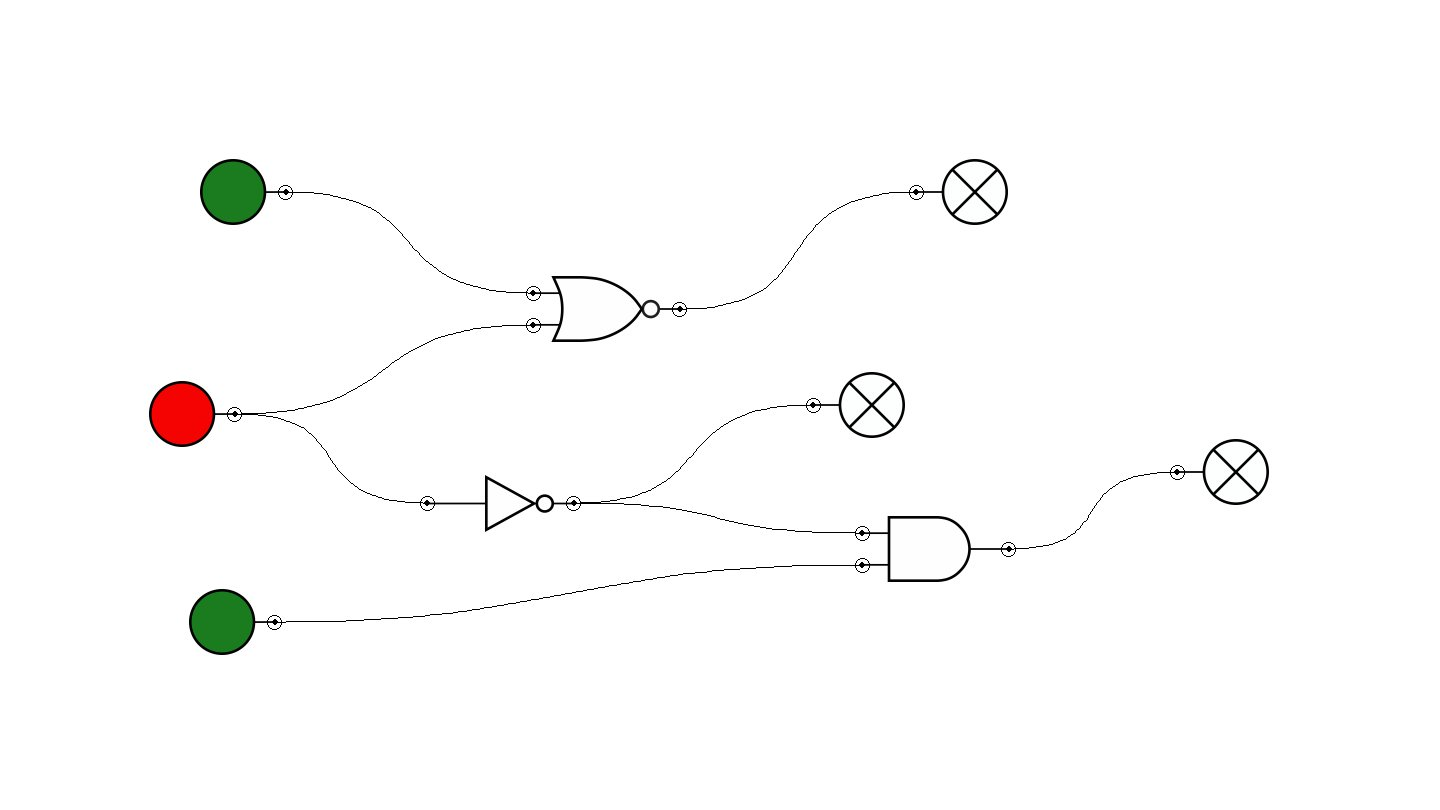and: (855, 516, 1016, 582)
bulb: (806, 372, 905, 438), (1170, 439, 1269, 505), (909, 159, 1008, 225)
nor: (526, 276, 687, 342)
not: (420, 475, 581, 532)
switch_False: (149, 381, 242, 447)
switch_True: (200, 159, 293, 225), (189, 589, 282, 655)
